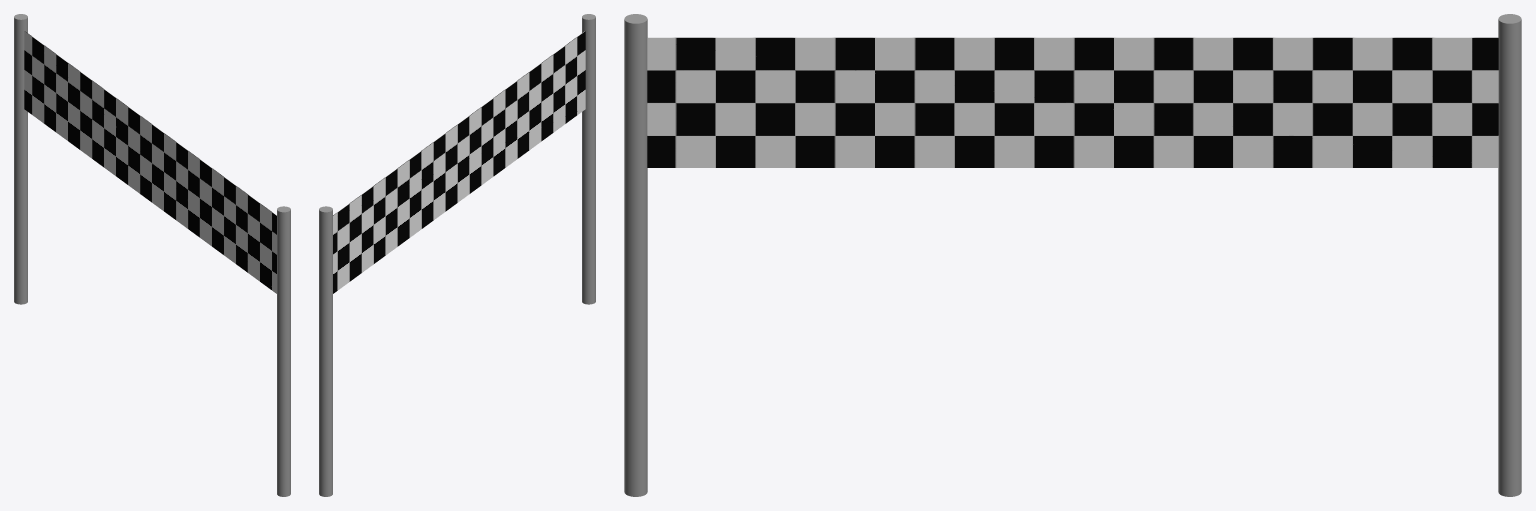
Rendered from flag 1.fbx.
3 views of the same model, side by side, from view 1: azimuth 30°, elevation 25°; view 2: azimuth 150°, elevation 25°; view 3: azimuth 270°, elevation 25° (orthographic). The views are drawn at different scales.
Visible parts, largest first — view 1: Cube, Cylinder.004, Cylinder.003; view 2: Cube, Cylinder.003, Cylinder.004; view 3: Cube, Cylinder.003, Cylinder.004.
Boxes of the visible parts, left/top/right/bottom form: Cube: left=24, top=31, right=276, bottom=293; Cylinder.004: left=277, top=206, right=290, bottom=496; Cylinder.003: left=14, top=14, right=27, bottom=304; Cube: left=333, top=31, right=585, bottom=293; Cylinder.003: left=319, top=206, right=332, bottom=496; Cylinder.004: left=582, top=14, right=595, bottom=304; Cube: left=647, top=37, right=1498, bottom=167; Cylinder.003: left=1498, top=14, right=1521, bottom=496; Cylinder.004: left=624, top=14, right=647, bottom=496.
Bounding box in the file's own units: 32.2 × 728 × 1251.
